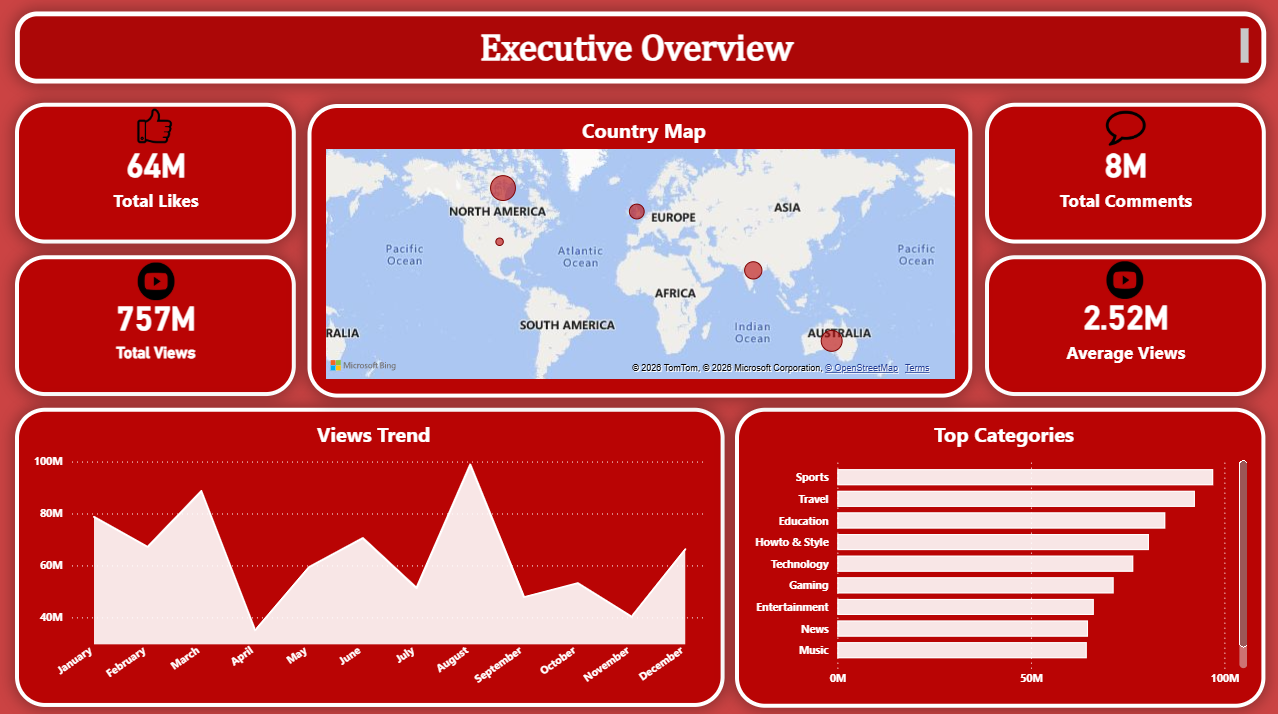

Layout of this report page (visuals, bound fields, positions):
{"tool":"powerbi","page":{"name":"Page 1","canvas":[1280,720],"ordinal":0},"visuals":[{"type":"card","fields":{"Values":["youtube_trending_clean_powerbi.Total Likes"]},"box":[14.5,103.8,281.1,141.2],"z":0},{"type":"card","title":"Total Views","fields":{"Values":["youtube_trending_clean_powerbi.Total Views"]},"box":[14.5,255.8,281.1,141.2],"z":1000},{"type":"card","fields":{"Values":["youtube_trending_clean_powerbi.Average Views"]},"box":[984.5,255.8,281.1,141.2],"z":2000},{"type":"card","fields":{"Values":["youtube_trending_clean_powerbi.Total Comments"]},"box":[984.5,103.8,281.1,141.2],"z":3000},{"type":"lineChart","title":"Views Trend","fields":{"Category":["youtube_trending_clean_powerbi.trending_date.Variation.Date Hierarchy.Month"],"Y":["Sum(youtube_trending_clean_powerbi.views)"]},"box":[14.5,409,709.4,299.2],"z":4000},{"type":"clusteredBarChart","title":"Top Categories","fields":{"Y":["Sum(youtube_trending_clean_powerbi.views)"],"Category":["youtube_trending_clean_powerbi.category"]},"box":[735,408.8,530,300],"z":5000},{"type":"map","title":"Country Map","fields":{"Category":["youtube_trending_clean_powerbi.country"],"Size":["Sum(youtube_trending_clean_powerbi.views)"]},"box":[307.5,105,665,293.8],"z":6000},{"type":"textbox","title":"Executive Overview","box":[14.5,12.1,1251.1,72.4],"z":7000},{"type":"image","box":[125.5,94.1,59.1,66.4],"z":8000},{"type":"image","box":[1083.4,105,84.5,47.1],"z":9000},{"type":"image","box":[1071.3,257,107.4,47.1],"z":10000},{"type":"image","box":[102.5,258.2,107.4,47.1],"z":11000}]}

Visuals, with their boxes in screenshot pixels (x1, y1, x2, y2), scaled from the page's 1280x720 canvas onto the 1278x714 screenshot:
card - youtube_trending_clean_powerbi.Total Likes: x1=14, y1=103, x2=295, y2=243
"Total Views" card: x1=14, y1=254, x2=295, y2=394
card - youtube_trending_clean_powerbi.Average Views: x1=983, y1=254, x2=1264, y2=394
card - youtube_trending_clean_powerbi.Total Comments: x1=983, y1=103, x2=1264, y2=243
"Views Trend" lineChart: x1=14, y1=406, x2=723, y2=702
"Top Categories" clusteredBarChart: x1=734, y1=405, x2=1263, y2=703
"Country Map" map: x1=307, y1=104, x2=971, y2=395
"Executive Overview" textbox: x1=14, y1=12, x2=1264, y2=84
image: x1=125, y1=93, x2=184, y2=159
image: x1=1082, y1=104, x2=1166, y2=151
image: x1=1070, y1=255, x2=1177, y2=302
image: x1=102, y1=256, x2=210, y2=303
